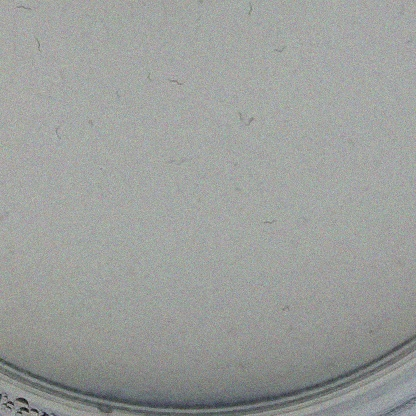worm: (26, 33, 50, 58), (232, 104, 257, 128), (7, 0, 38, 19), (232, 0, 258, 22), (161, 71, 185, 92), (265, 39, 293, 57), (391, 0, 415, 21), (254, 211, 282, 229), (161, 150, 184, 171), (45, 121, 64, 146), (50, 62, 69, 85), (105, 82, 124, 103), (80, 113, 99, 134), (189, 11, 210, 28), (401, 33, 416, 54), (278, 303, 299, 318), (140, 68, 154, 88)
